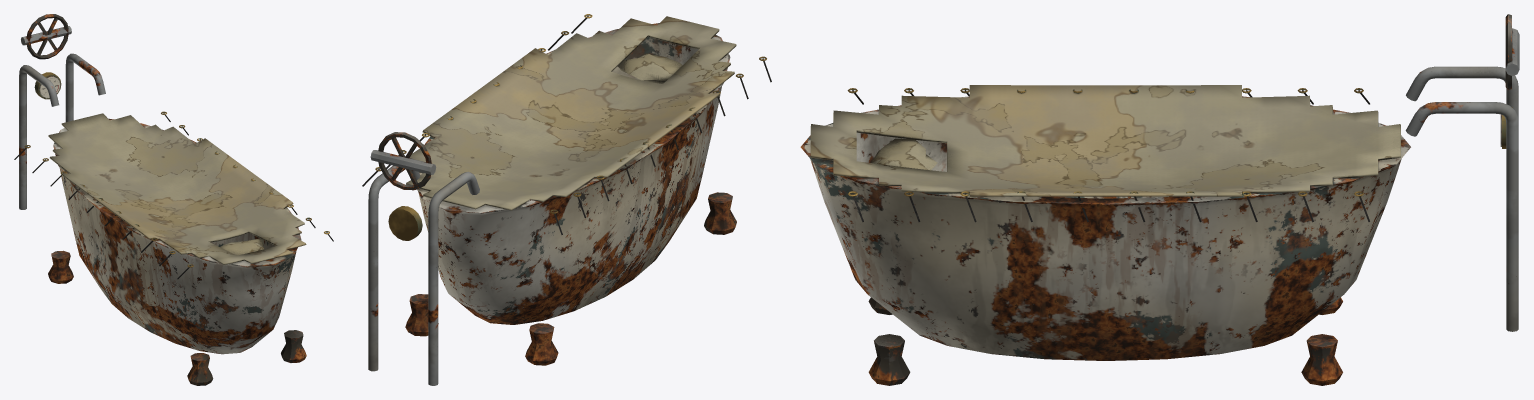
Rendered from HydrotherapyTub.fbx.
3 renders of one model, left to right at view 1: azimuth 30°, elevation 25°; view 2: azimuth 150°, elevation 25°; view 3: azimuth 270°, elevation 25°, orthographic. The views are drawn at different scales.
Parts seen in each view (by area): view 1: HydrotherapyTub; view 2: HydrotherapyTub; view 3: HydrotherapyTub.
Boxes of the visible parts, left/top/right/bottom form: HydrotherapyTub: left=14, top=14, right=333, bottom=385; HydrotherapyTub: left=362, top=14, right=771, bottom=385; HydrotherapyTub: left=800, top=14, right=1519, bottom=385.
Bounding box in the file's own units: 2.41 × 3.09 × 6.18.
1 material, 1 textured.
